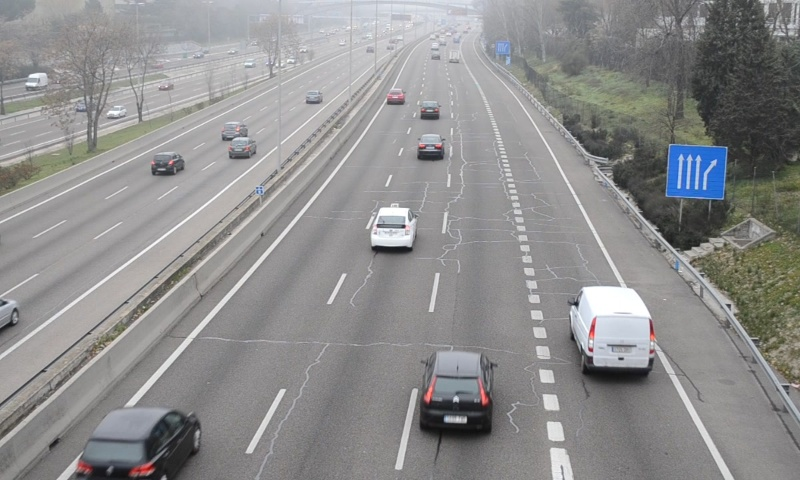car: (74, 406, 200, 480), (421, 352, 492, 430), (370, 206, 418, 247), (418, 132, 444, 158), (419, 99, 440, 118), (386, 87, 406, 104)
van: (571, 286, 656, 374)
